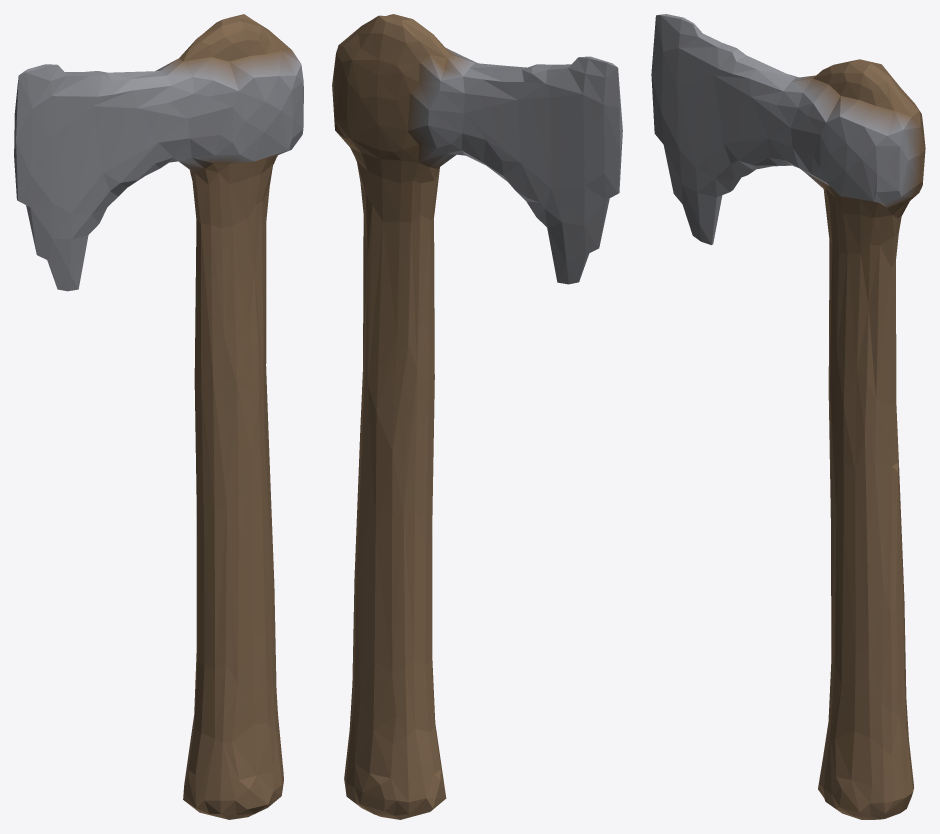
Rendered from axe_iron.glb.
3 views of the same model, side by side, from view 1: azimuth 30°, elevation 25°; view 2: azimuth 150°, elevation 25°; view 3: azimuth 330°, elevation 25° (orthographic). The views are drawn at different scales.
Visible parts, largest first — view 1: world; view 2: world; view 3: world.
Part boxes in pixels (x1,y1,x2,y2): world: (14,14,303,819); world: (332,14,622,819); world: (651,14,925,819).
Size of the model in its own units: 0.3724 by 1 by 0.1061.
